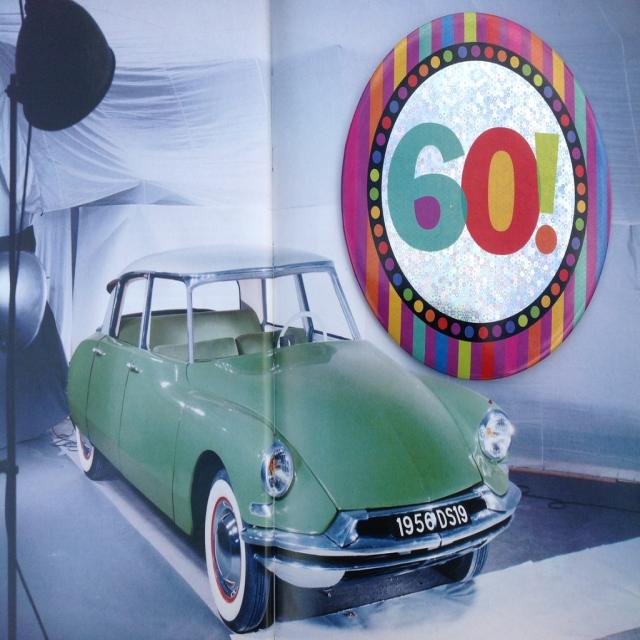car: (66, 252, 510, 624)
